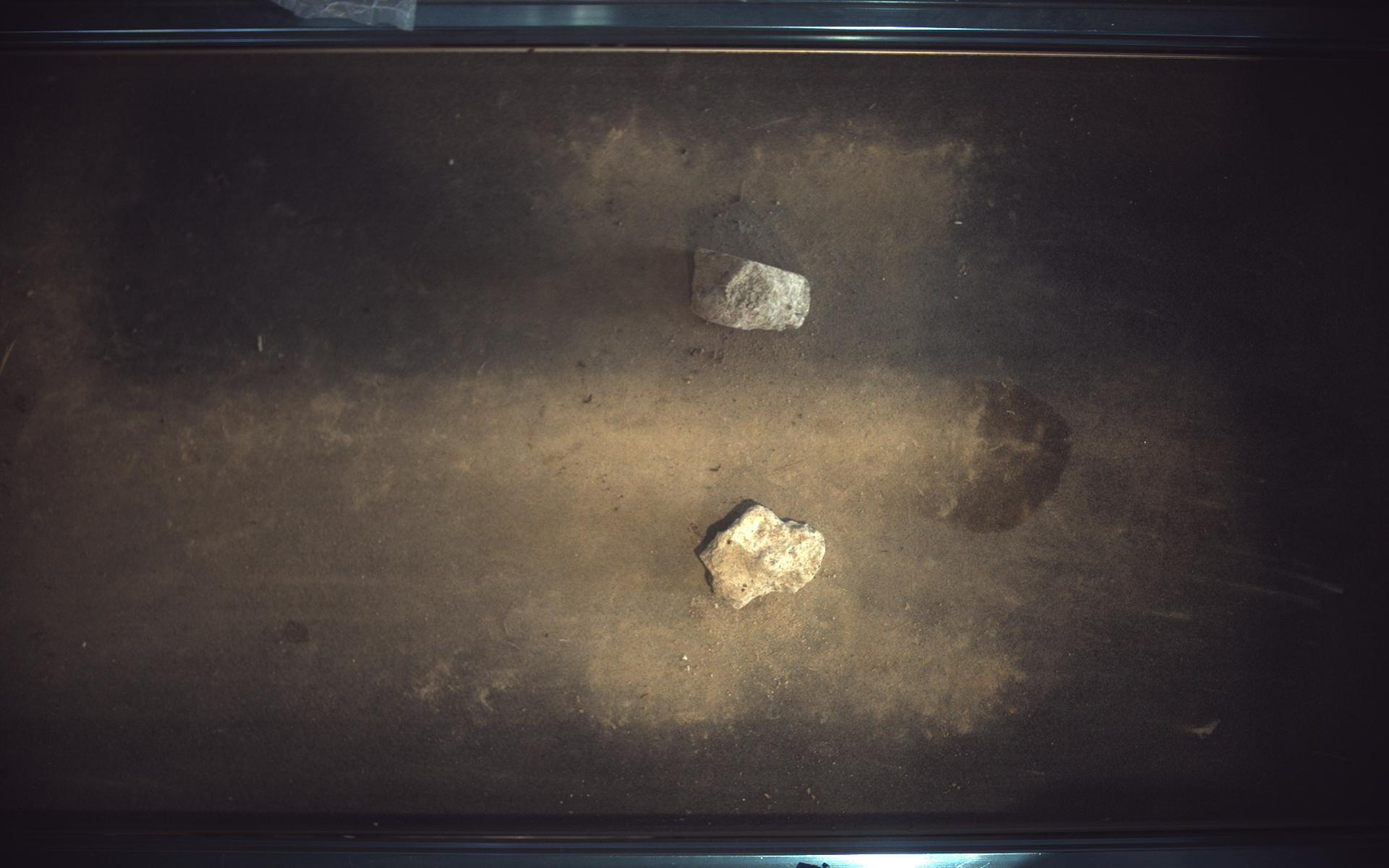stone: (700, 505, 827, 610), (692, 247, 812, 331)
